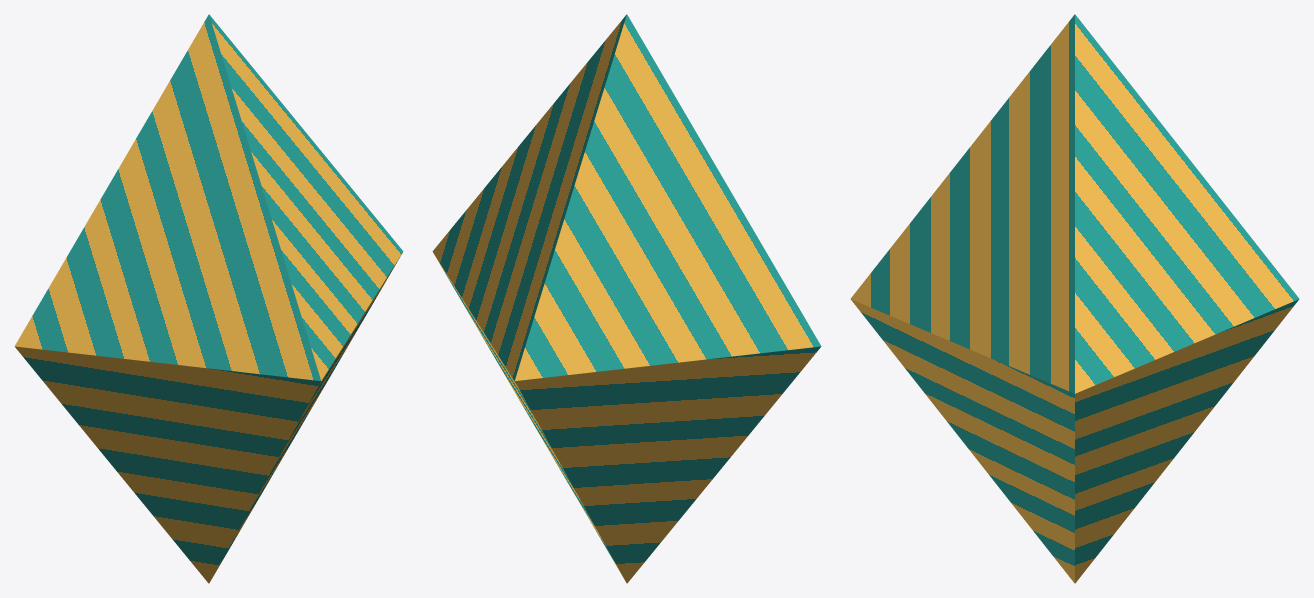
The model's file is gem.glb.
The picture shows the model from 3 angles, left to right: view 1: azimuth 30°, elevation 25°; view 2: azimuth 150°, elevation 25°; view 3: azimuth 270°, elevation 25°; orthographic projection.
Visible parts, largest first — view 1: gem; view 2: gem; view 3: gem.
Part boxes in pixels (x1=…): gem: x1=14, y1=14, x2=403, y2=583; gem: x1=432, y1=14, x2=821, y2=583; gem: x1=850, y1=14, x2=1299, y2=583.
Bounding box in the file's own units: 1 × 1.4 × 1.
Materials: 1 (1 with a texture image).
